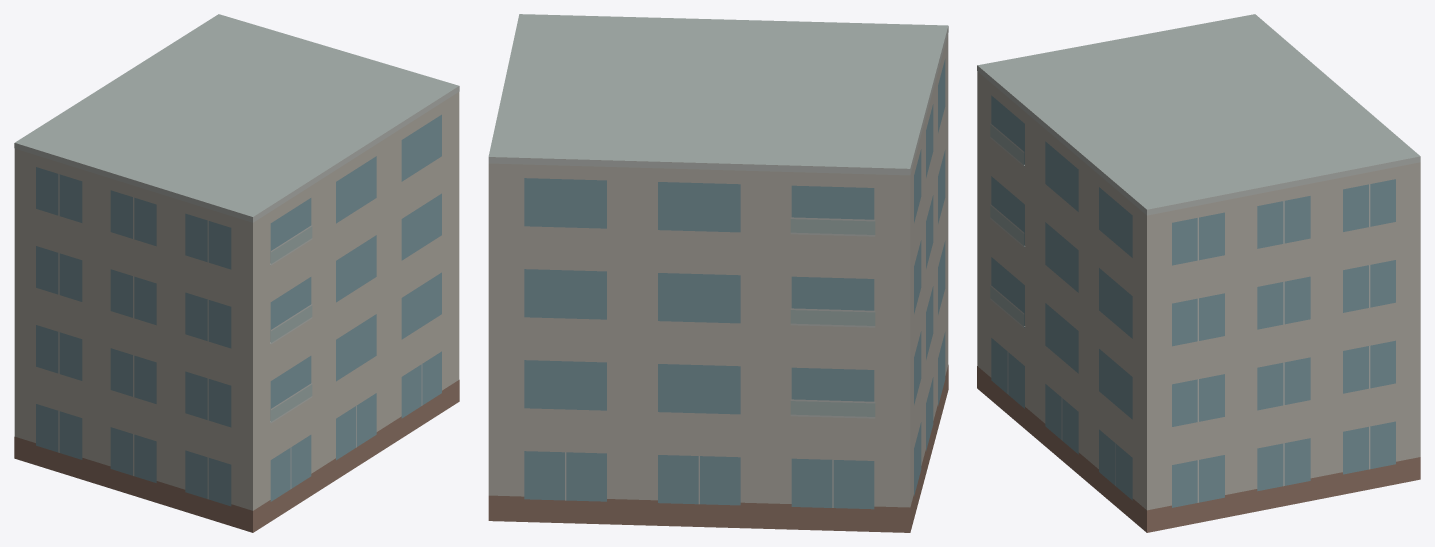
The model's file is survey-upis-32740659.glb.
3 renders of one model, left to right at view 1: azimuth 30°, elevation 25°; view 2: azimuth 150°, elevation 25°; view 3: azimuth 270°, elevation 25°, orthographic. The views are drawn at different scales.
Visible parts, largest first — view 1: survey-upis-32740659.tmp; view 2: survey-upis-32740659.tmp; view 3: survey-upis-32740659.tmp.
Boxes of the visible parts, x1=… form: survey-upis-32740659.tmp: x1=14, y1=14, x2=459, y2=532; survey-upis-32740659.tmp: x1=488, y1=14, x2=948, y2=532; survey-upis-32740659.tmp: x1=977, y1=14, x2=1420, y2=532.
Bounding box in the file's own units: 17.52 × 13.48 × 16.77.
